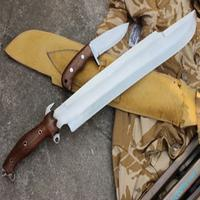knife: (3, 15, 198, 182), (62, 16, 131, 93)
